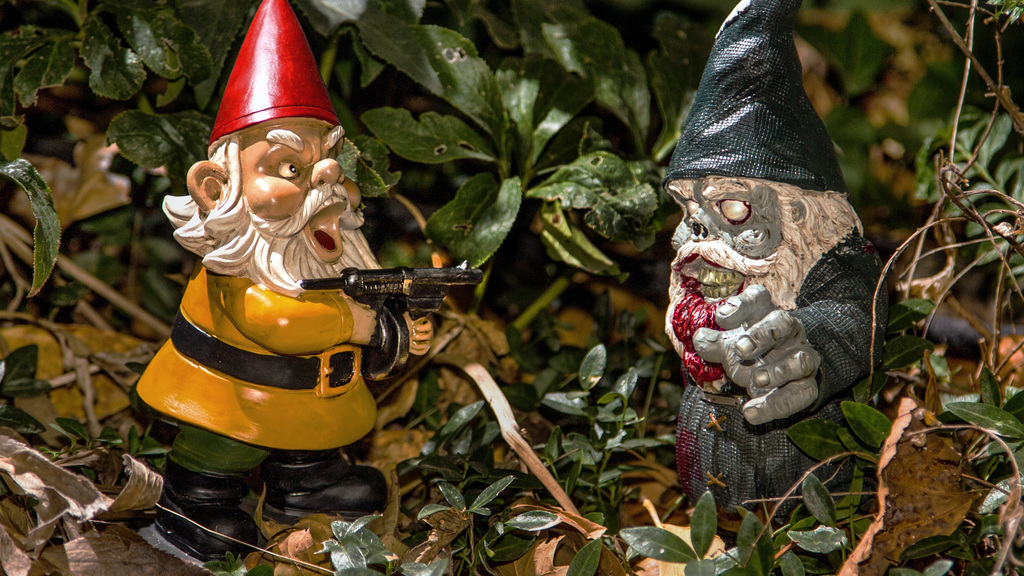Person: (129, 0, 433, 562), (661, 0, 889, 533)
